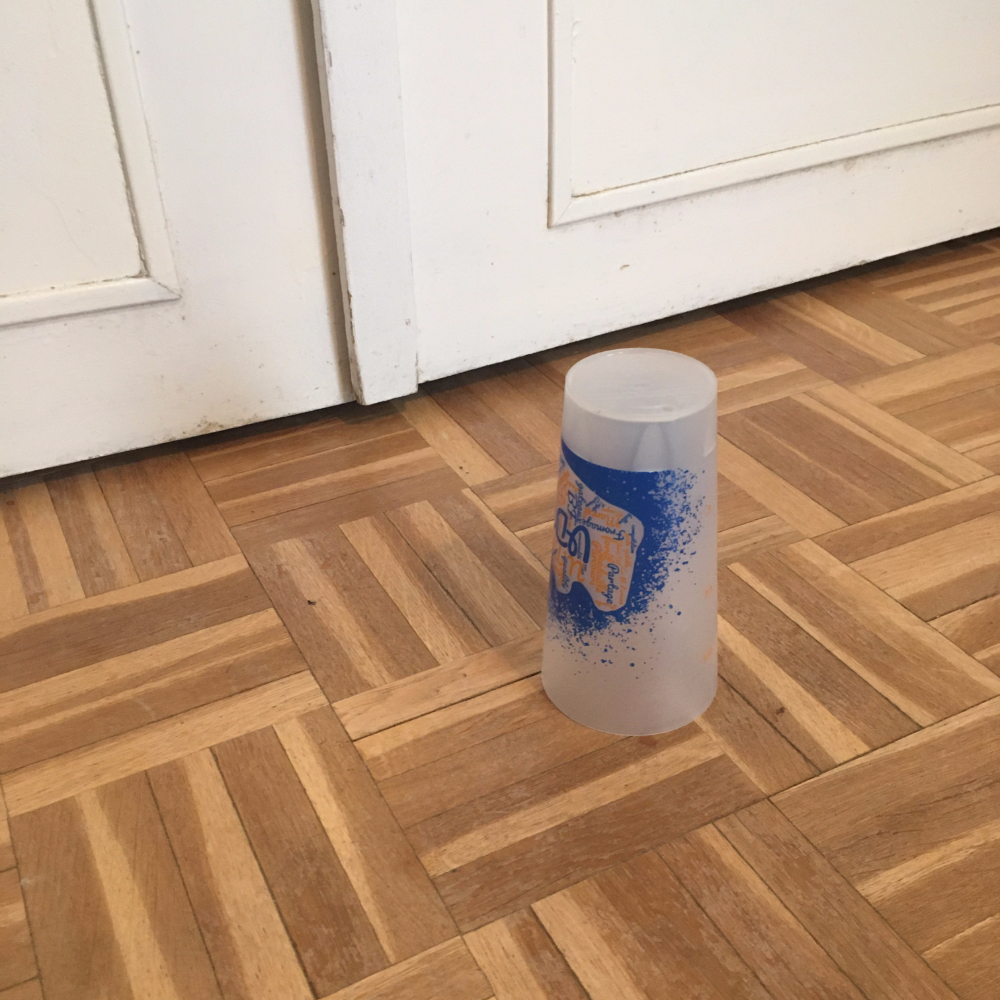ecocup: (542, 348, 718, 737)
